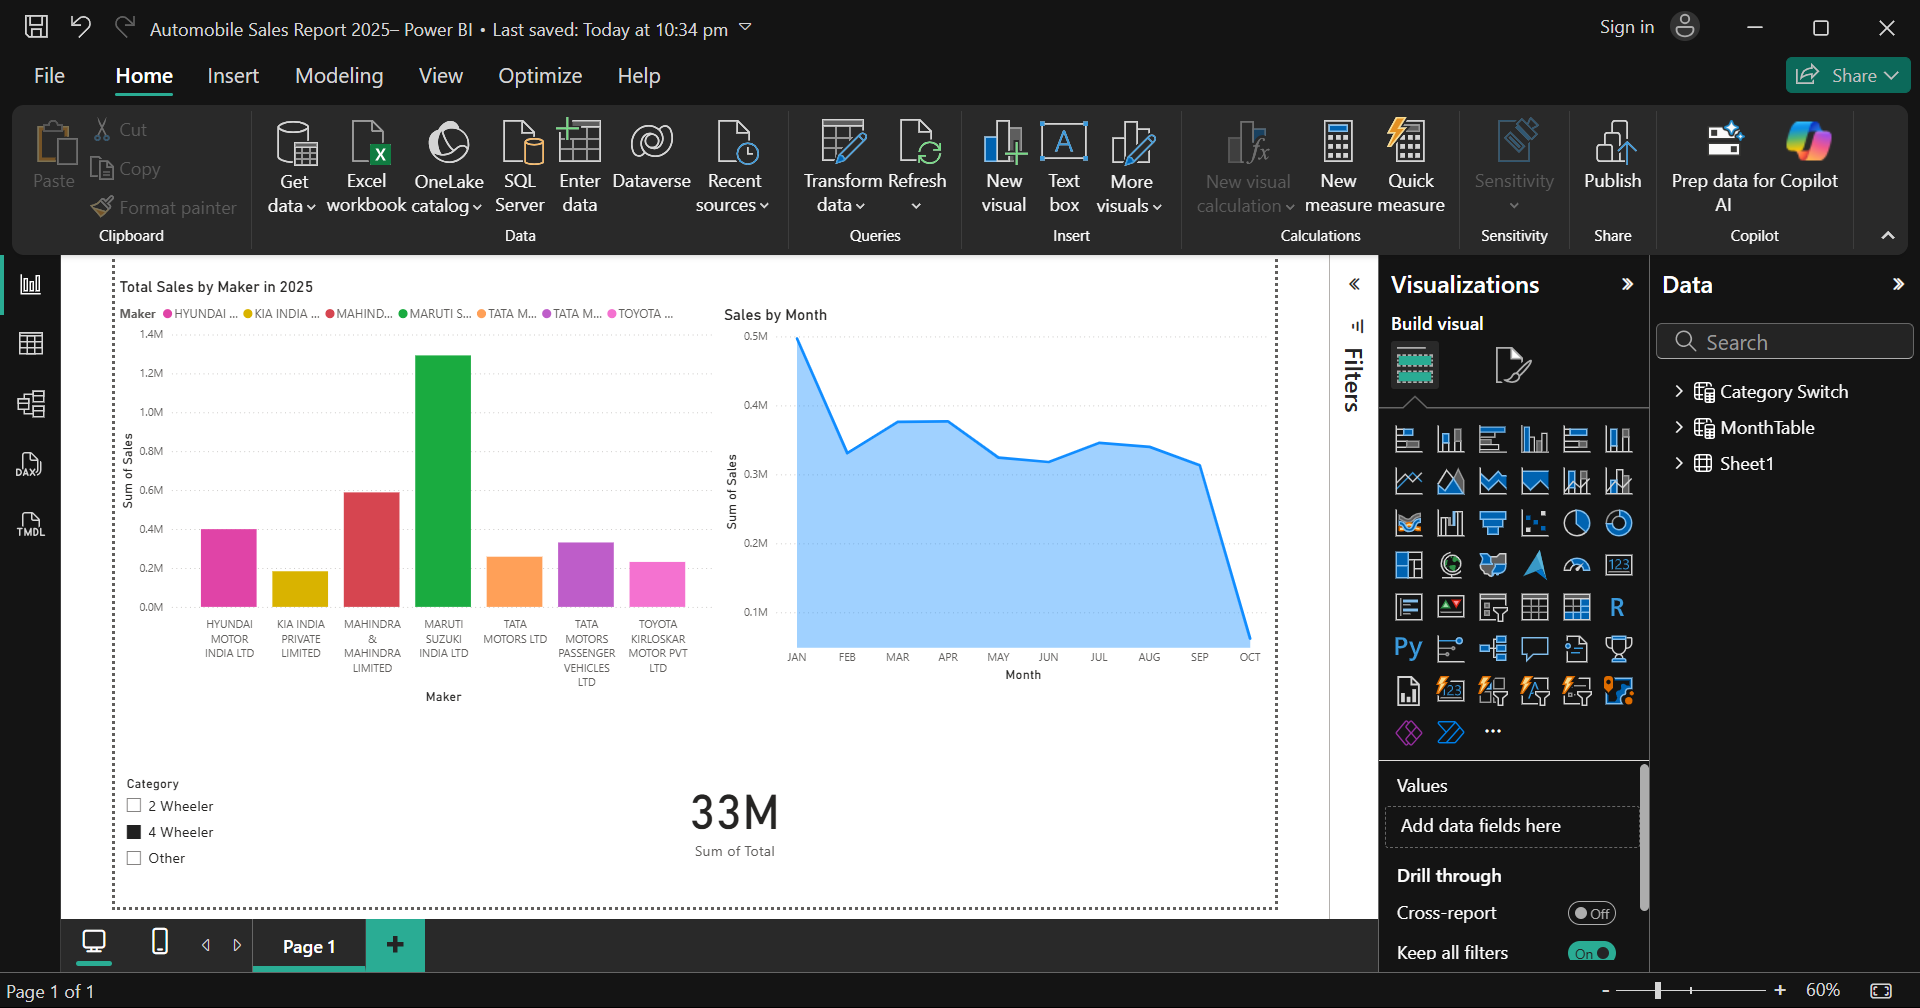

What the dashboard file says about the page in this screenshot:
{"tool":"powerbi","page":{"name":"Page 1","canvas":[1280,720],"ordinal":0},"visuals":[{"type":"clusteredColumnChart","fields":{"Category":["Sheet1.Maker","Sheet1.Month"],"Y":["Sum(Sheet1.Sales)"]},"box":[146.1,13.5,587.6,331.5],"z":0},{"type":"lineChart","fields":{"Y":["Sum(Sheet1.Sales)"],"Category":["MonthTable.Month"]},"box":[146.7,392.2,586.7,327.8],"z":1000}]}

Visuals, with their boxes on the page's 1280x720 design canvas (x1, y1, x2, y2). These are canvas units, not pixel positions in the 1920x1008 screenshot, which may show the page scaled, cropped or inside an application window:
clusteredColumnChart - Sheet1.Maker x Sheet1.Month: {"left": 146, "top": 14, "right": 734, "bottom": 345}
lineChart - Sum(Sheet1.Sales) x MonthTable.Month: {"left": 147, "top": 392, "right": 733, "bottom": 720}
